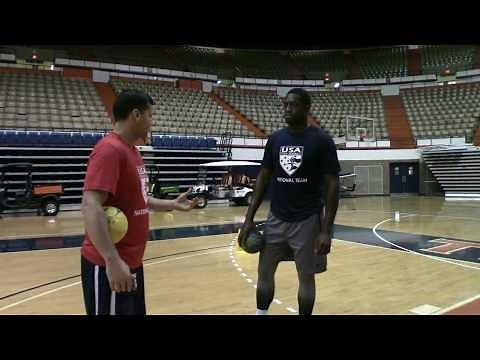ballon_handball: (90, 204, 130, 247), (238, 229, 264, 253)
